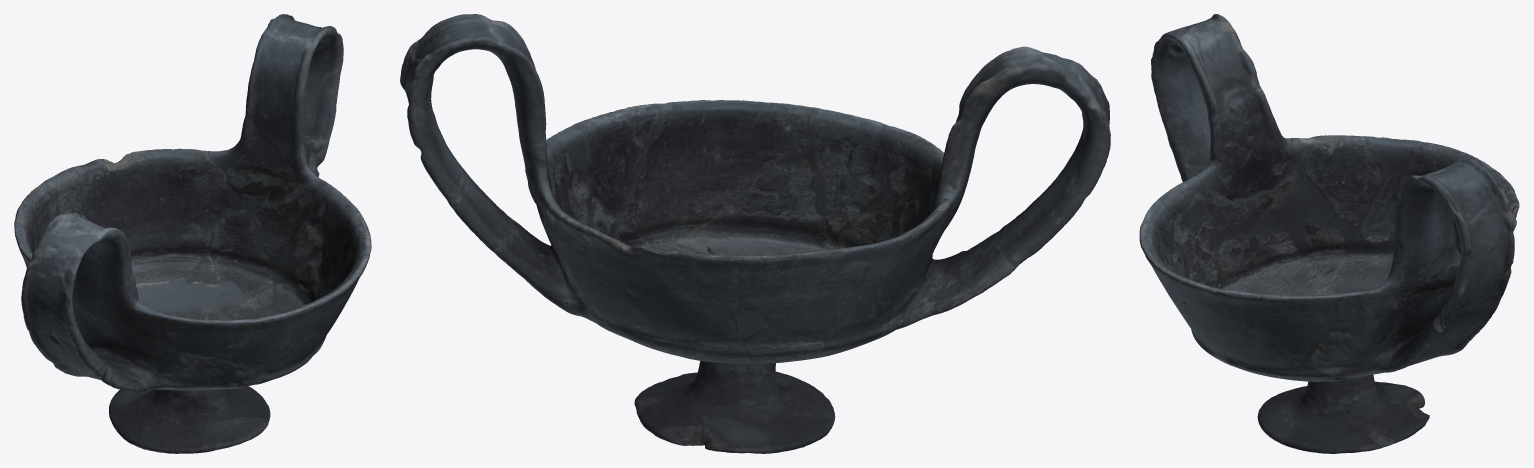
File: bucchero_kantharos.glb
3 views of the same model, side by side, from view 1: azimuth 30°, elevation 25°; view 2: azimuth 150°, elevation 25°; view 3: azimuth 270°, elevation 25° (orthographic). The views are drawn at different scales.
Parts seen in each view (by area): view 1: Object_2, Object_3, Object_4, Object_5; view 2: Object_4, Object_2, Object_3, Object_5; view 3: Object_2, Object_3, Object_4, Object_5.
Boxes of the visible parts, x1,y1,x2,y2 form: Object_2: [14, 14, 366, 449]; Object_3: [53, 71, 351, 452]; Object_4: [14, 24, 371, 453]; Object_5: [21, 213, 332, 384]; Object_4: [408, 28, 1110, 453]; Object_2: [400, 14, 1110, 453]; Object_3: [408, 107, 961, 453]; Object_5: [770, 46, 1109, 306]; Object_2: [1140, 15, 1518, 436]; Object_3: [1170, 96, 1519, 452]; Object_4: [1139, 23, 1519, 453]; Object_5: [1151, 14, 1260, 181].
Size of the model in its own units: 0.184 by 0.1263 by 0.1283.
Materials: 2 (2 with a texture image).
